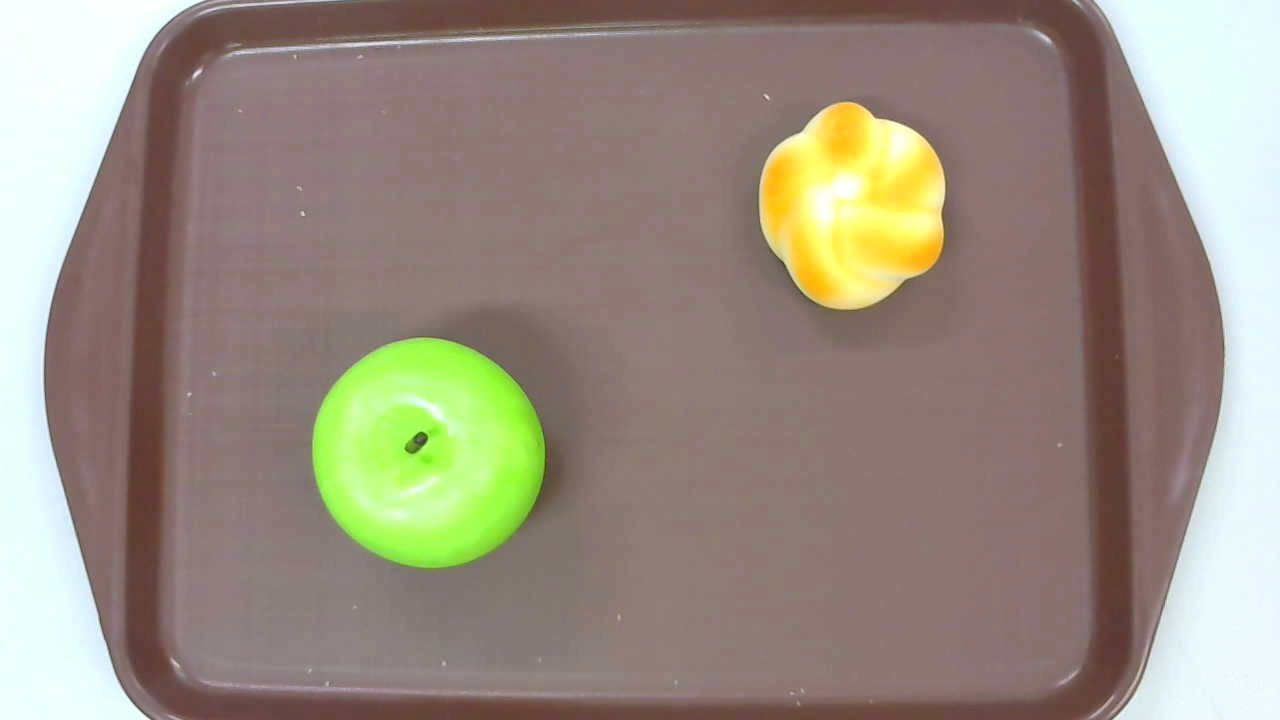green apple: (311, 337, 545, 569)
twist bread: (755, 102, 949, 312)
